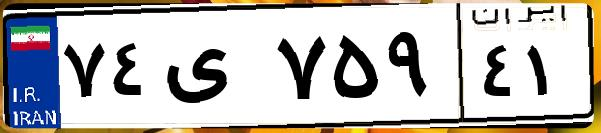1: (525, 38, 570, 115)
4: (475, 38, 525, 113), (110, 28, 158, 98)
5: (330, 28, 385, 110)
7: (270, 28, 330, 110), (57, 26, 110, 100)
9: (385, 28, 445, 110)
ی: (158, 20, 270, 120)
